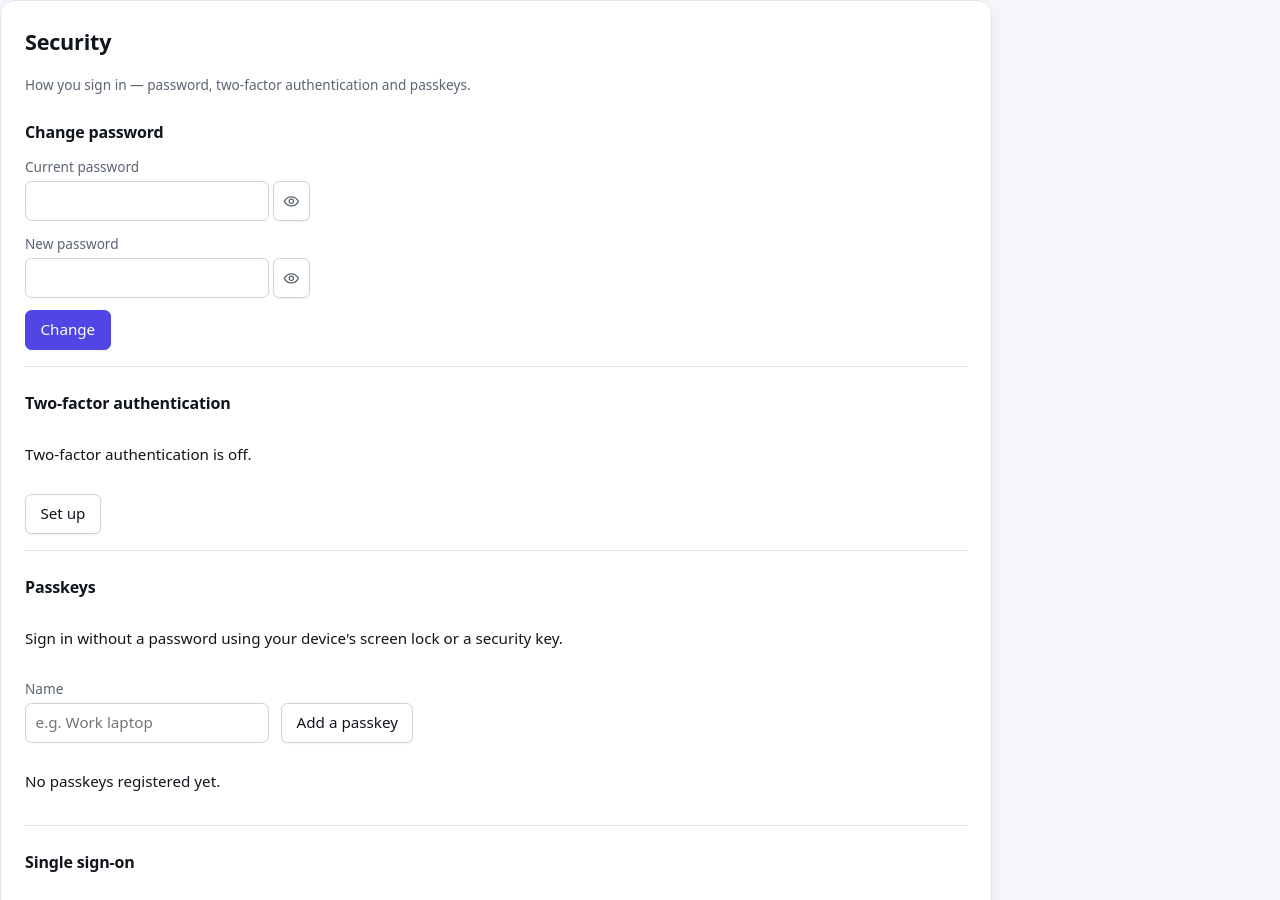
it: SecurityPage › パスワードを変更すると POST /api/auth/change-password が飛ぶ
expect the text "Two-factor authentication is off." is shown: met, box [25,443,252,467]
Type "old-secret" into the password field labelled "Current password". click: {"x": 147, "y": 201}
box: [25,181,269,221]
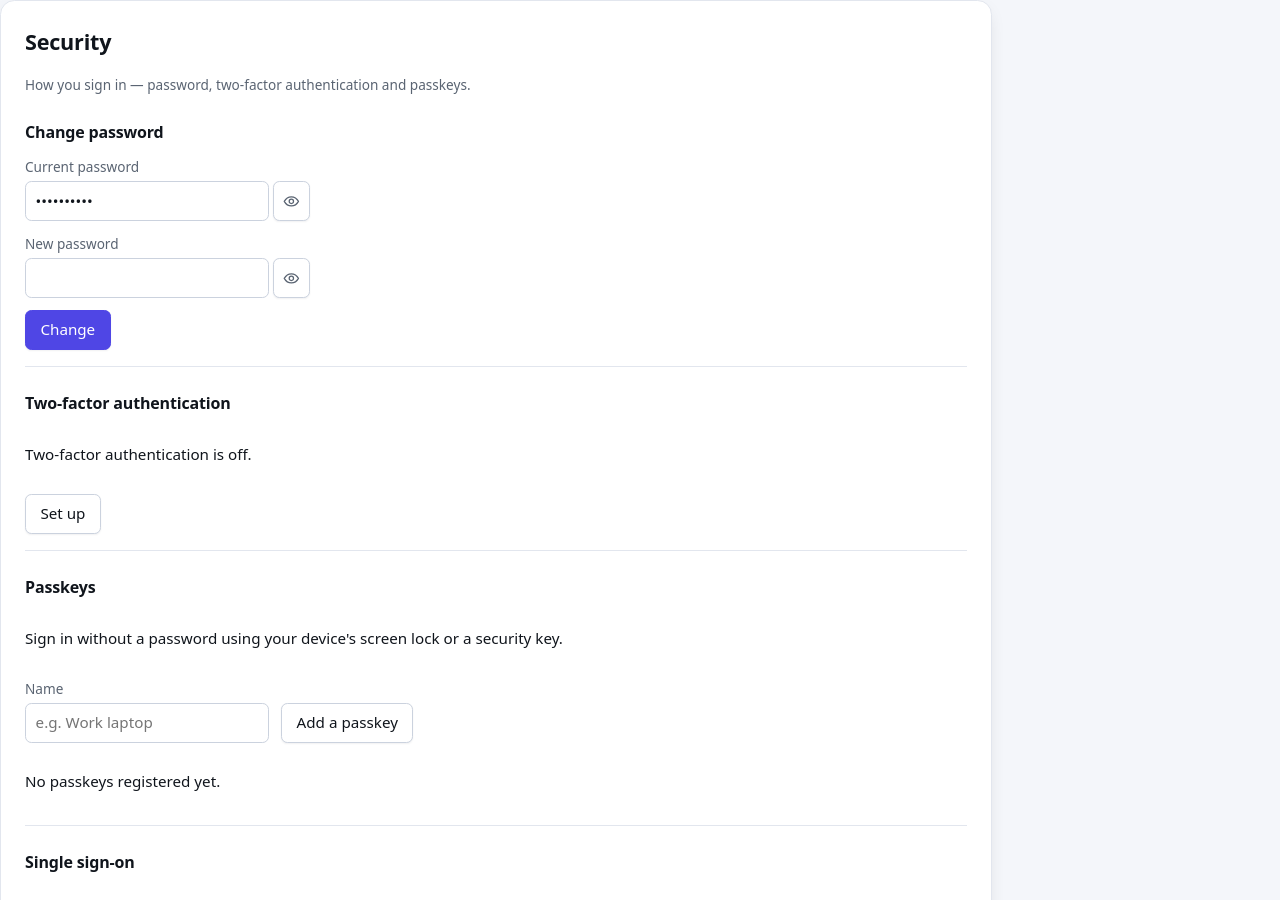
Type "new-secret" into the password field labelled "New password". click: {"x": 147, "y": 278}
box: [25,258,269,298]
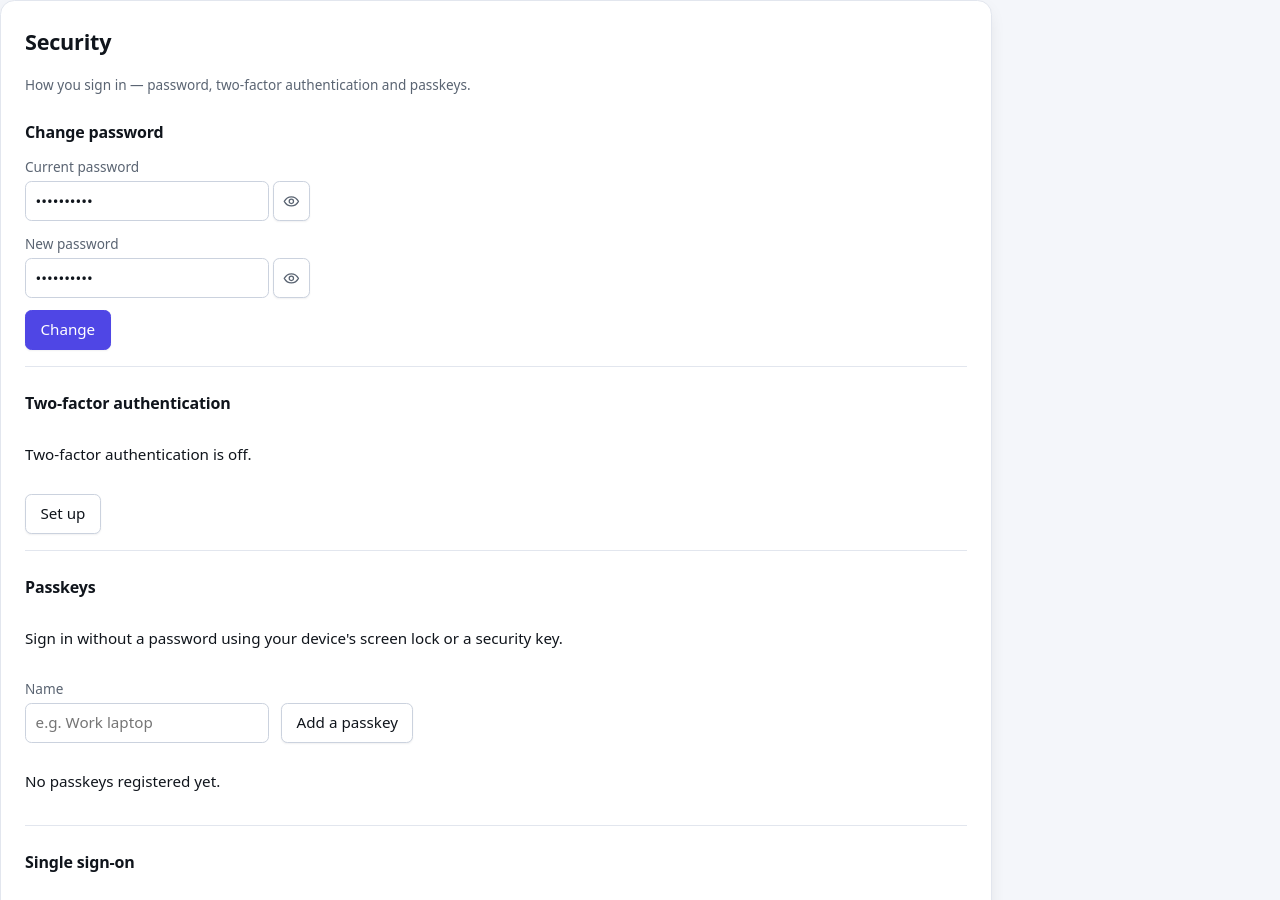
Click the button "Change". click: {"x": 68, "y": 330}
box: [25,310,111,350]
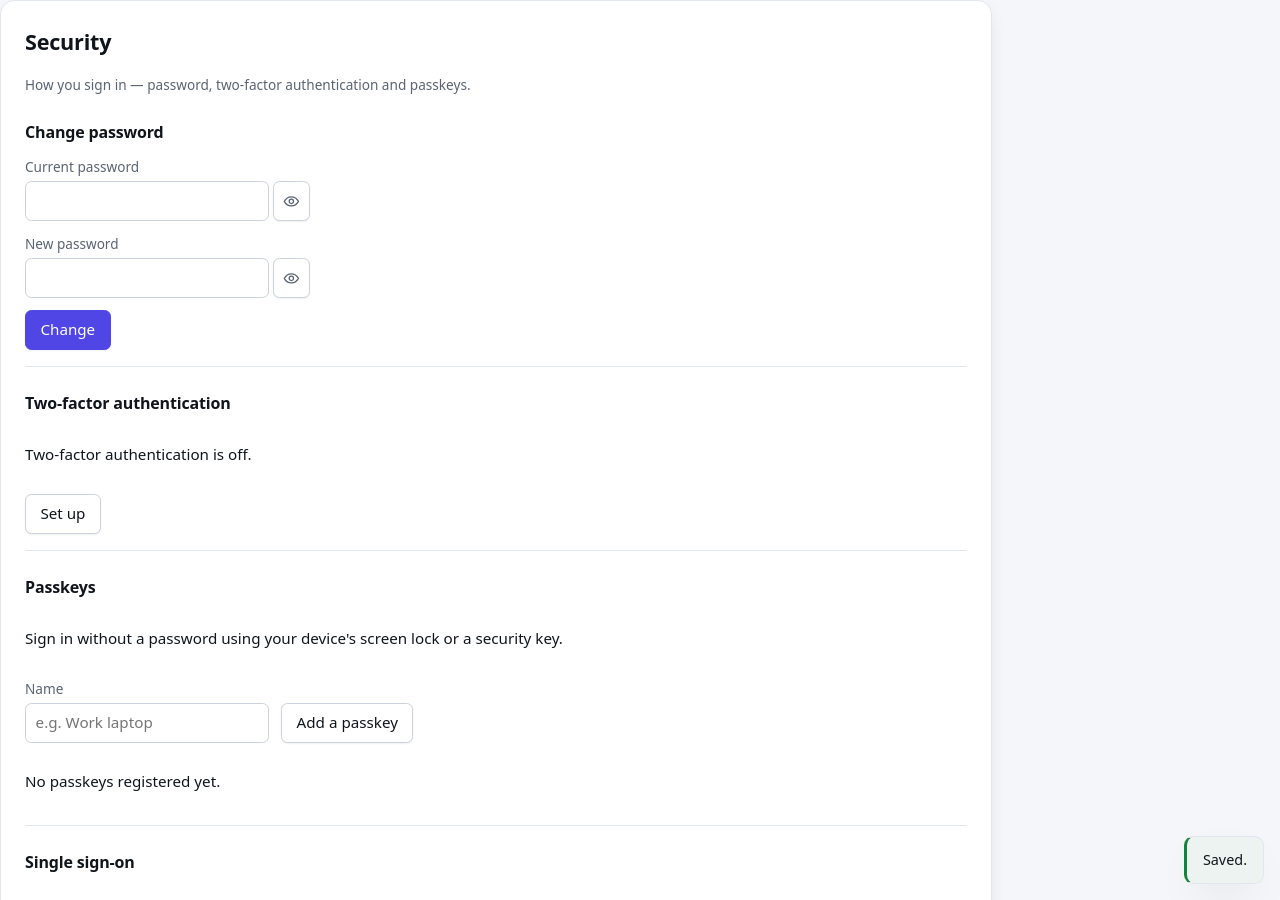
expect the text "Saved." is shown: met, box [1184,836,1264,884]
